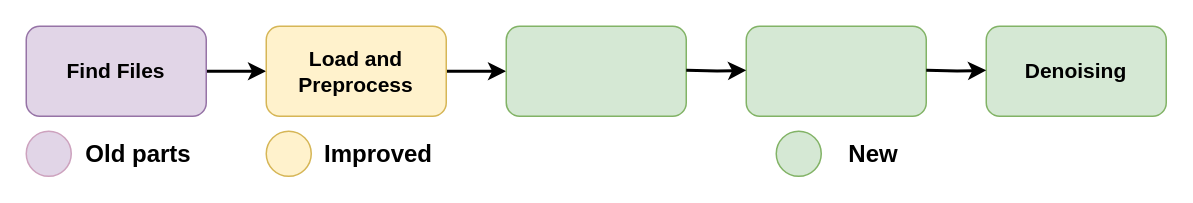
Some shapes in this 1193 by 203 pixel diagram are drawn without their labels. The shapes that lost their labels are listed below. From the top down, each one's centre as x and y in pixels, then its label:
At (595,70): "Merge Matrices".
At (835,70): "Resample Signal".
